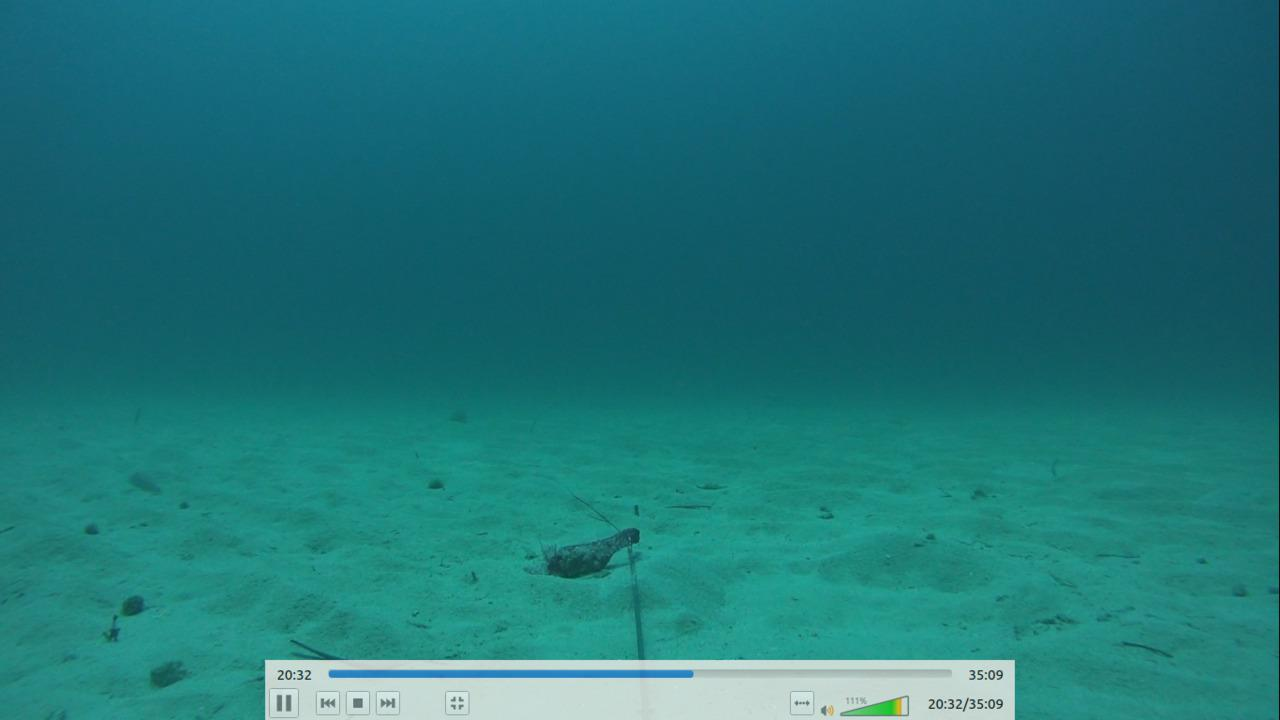raor: (116, 464, 163, 503)
